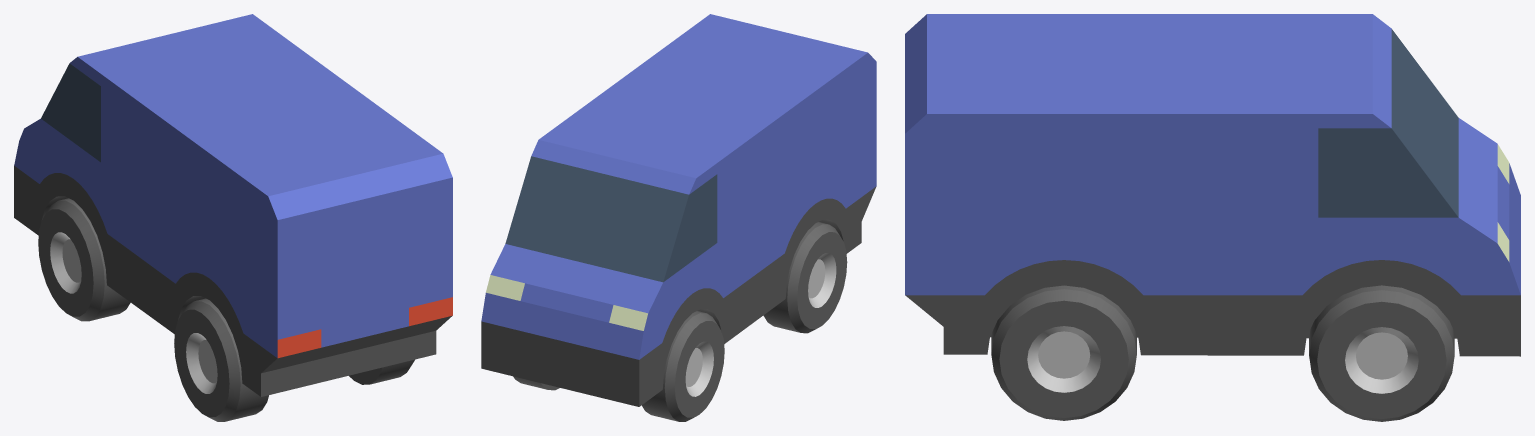
Rendered from carVan.obj.
The picture shows the model from 3 angles, left to right: view 1: azimuth 30°, elevation 25°; view 2: azimuth 150°, elevation 25°; view 3: azimuth 270°, elevation 25°; orthographic projection. The views are drawn at different scales.
Visible parts, largest first — view 1: body 14, wheelBackLeft 14, wheelFrontLeft 14, wheelBackRight 14; view 2: body 14, wheelBackLeft 14, wheelFrontLeft 14; view 3: body 14, wheelFrontRight 14, wheelBackRight 14.
Part boxes in pixels (left/top/right/bottom): body 14: left=14, top=14, right=452, bottom=396; wheelBackLeft 14: left=174, top=298, right=268, bottom=421; wheelFrontLeft 14: left=38, top=198, right=130, bottom=321; wheelBackRight 14: left=349, top=359, right=414, bottom=384; body 14: left=481, top=14, right=876, bottom=406; wheelBackLeft 14: left=763, top=222, right=847, bottom=333; wheelFrontLeft 14: left=642, top=311, right=724, bottom=421; body 14: left=905, top=14, right=1520, bottom=356; wheelFrontRight 14: left=1309, top=285, right=1454, bottom=421; wheelBackRight 14: left=991, top=285, right=1136, bottom=420.
Size of the model in its own units: 4.95 by 6.57 by 11.85.
